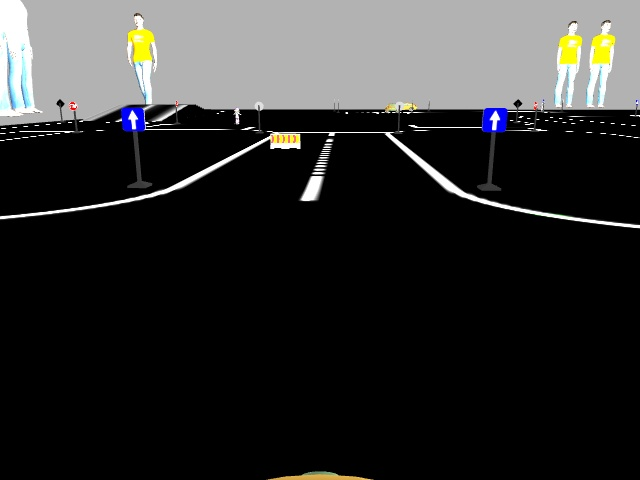ClosedRoadStand: (269, 134, 300, 149)
OneWay: (121, 108, 144, 130), (485, 109, 505, 132)
